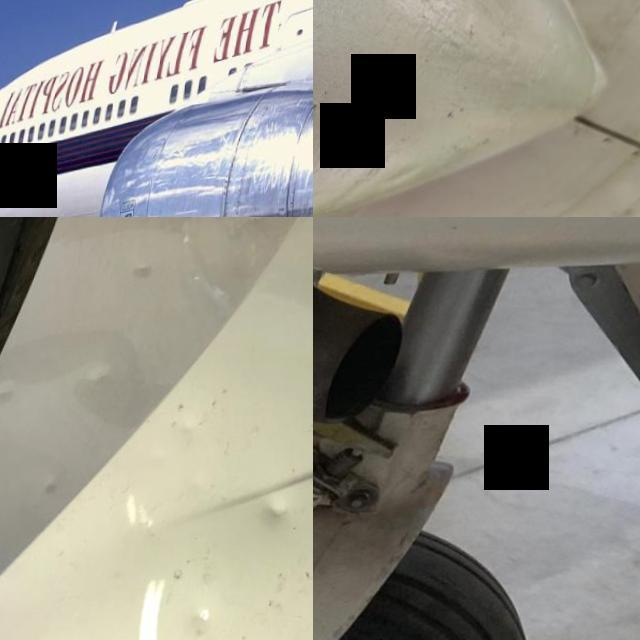Dent: (268, 502, 293, 531), (89, 368, 116, 389), (199, 608, 219, 635), (134, 264, 153, 284), (48, 479, 67, 498)
